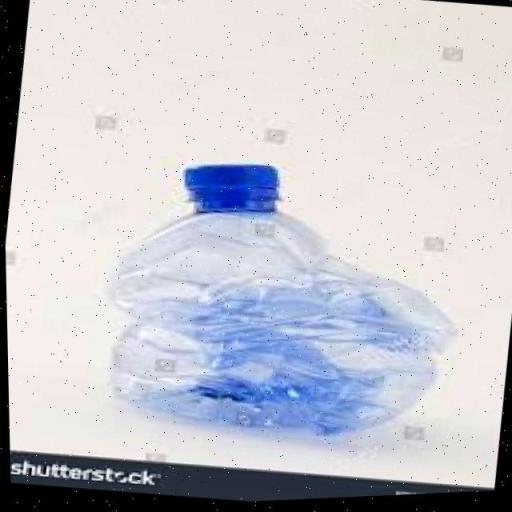plastic: (80, 131, 496, 464)
